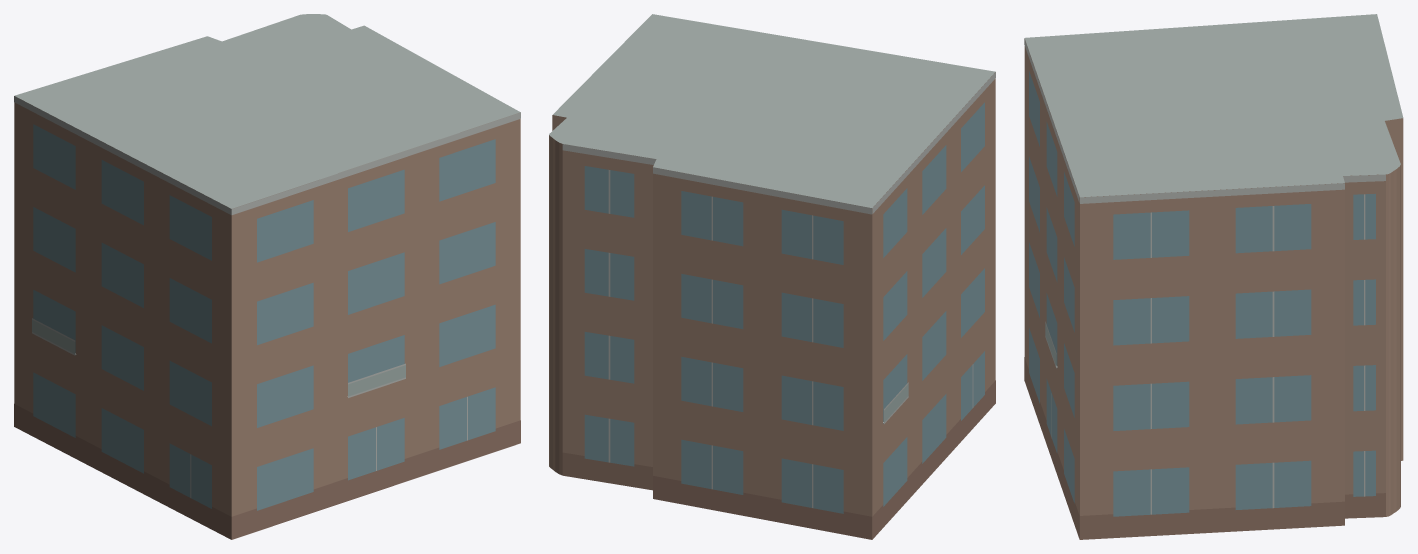
The model's file is survey-upis-32577211.glb.
The picture shows the model from 3 angles, left to right: view 1: azimuth 30°, elevation 25°; view 2: azimuth 150°, elevation 25°; view 3: azimuth 270°, elevation 25°; orthographic projection. The views are drawn at different scales.
Parts seen in each view (by area): view 1: survey-upis-32577211.tmp; view 2: survey-upis-32577211.tmp; view 3: survey-upis-32577211.tmp.
Part boxes in pixels (x1,y1,x2,y2): survey-upis-32577211.tmp: [14, 14, 520, 539]; survey-upis-32577211.tmp: [549, 14, 995, 539]; survey-upis-32577211.tmp: [1024, 14, 1403, 539].
Bounding box in the file's own units: 14.48 × 12.6 × 12.65.
